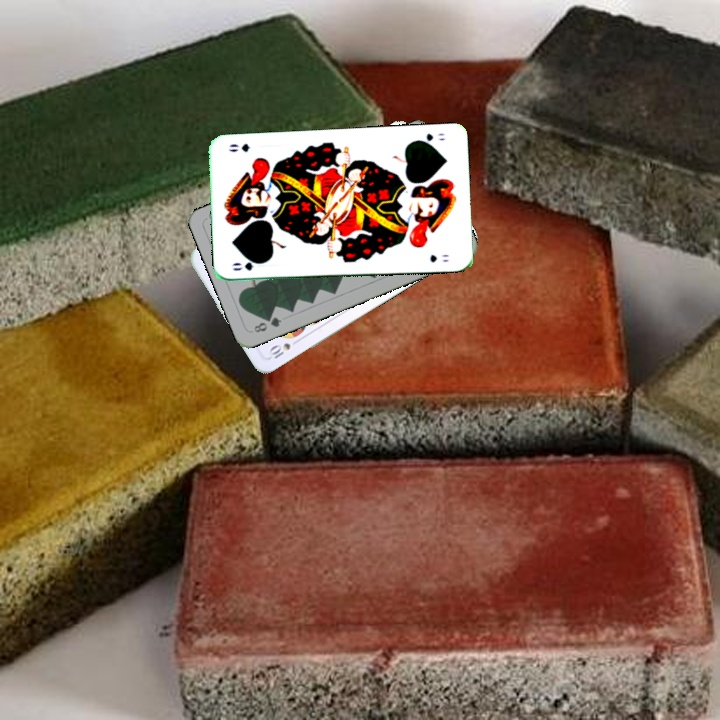G8: (250, 313, 284, 335)
GO: (411, 129, 448, 147), (228, 257, 268, 273)
S10: (264, 335, 303, 363)
